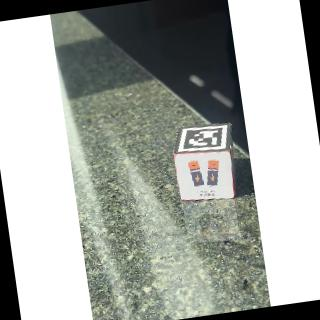Used_Battery: (172, 150, 239, 208)
